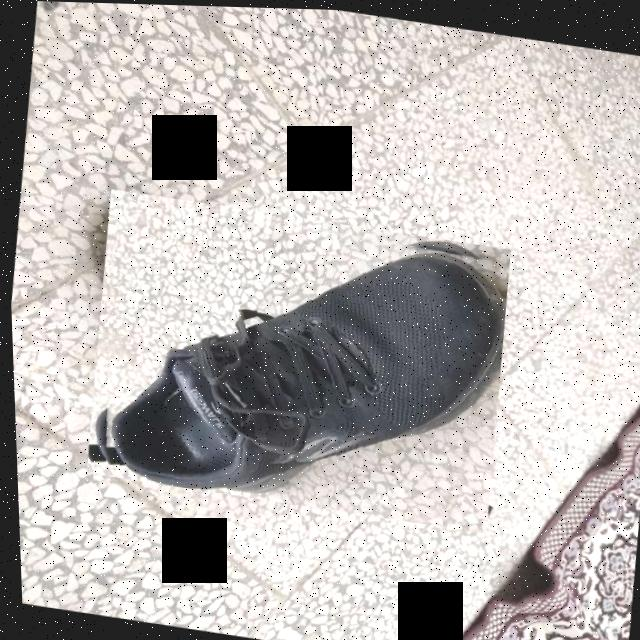shoe: (74, 187, 517, 531)
